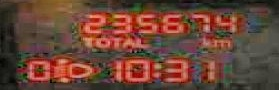0: (121, 57, 147, 80), (25, 59, 49, 80)
1: (203, 59, 216, 81), (112, 59, 121, 81)
2: (83, 13, 103, 33)
3: (163, 56, 187, 81), (110, 12, 130, 33)
4: (212, 14, 236, 31)
5: (134, 13, 156, 33)
6: (161, 13, 181, 32)
7: (190, 13, 210, 33)
X: (150, 62, 161, 78), (212, 38, 230, 47), (94, 37, 109, 47), (107, 37, 121, 47), (134, 37, 147, 47), (199, 35, 210, 46), (81, 35, 92, 46), (121, 36, 132, 45)
